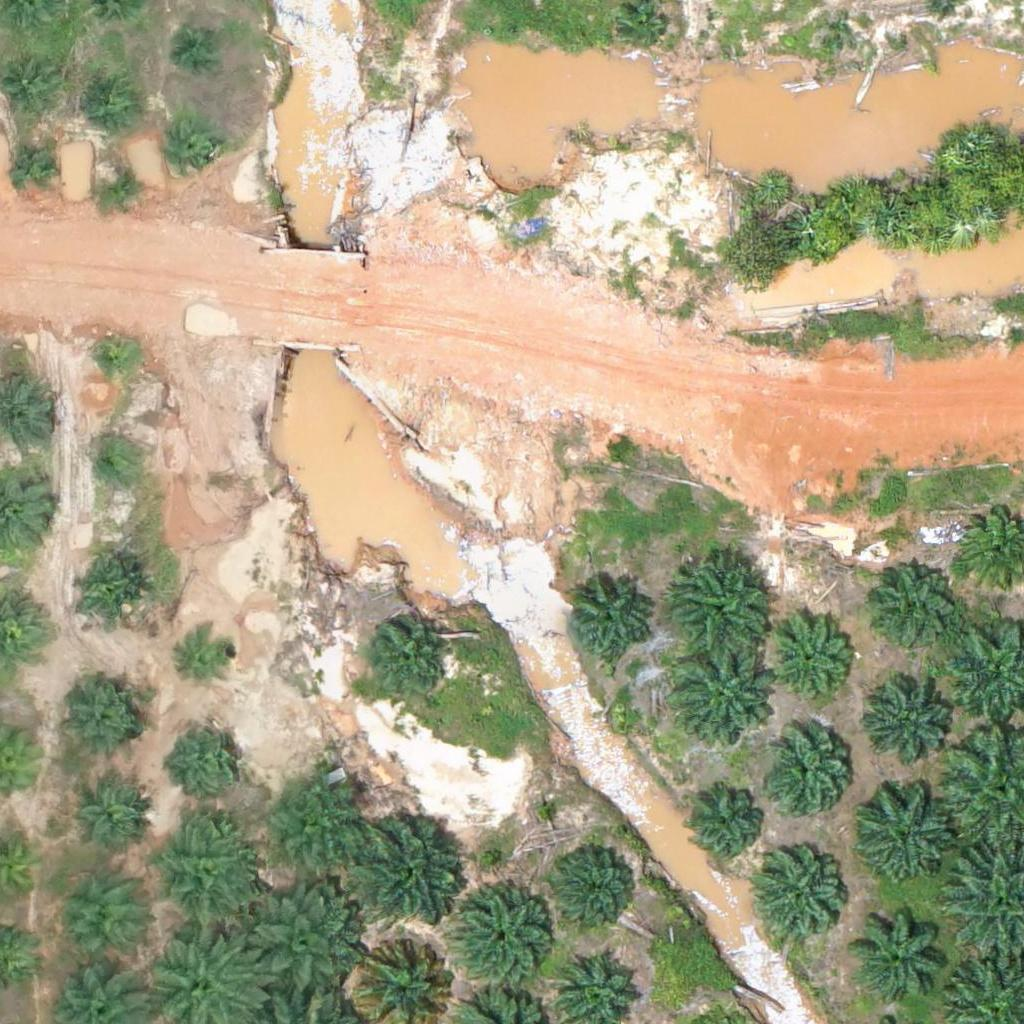Kelapa_Sawit: (345, 804, 470, 930), (234, 884, 359, 1009), (259, 767, 371, 881), (448, 883, 560, 997), (149, 819, 261, 932), (847, 903, 947, 1004), (674, 646, 774, 747), (670, 553, 770, 654), (48, 875, 148, 975), (852, 784, 952, 884), (62, 680, 150, 768), (873, 563, 961, 651), (766, 618, 854, 706), (763, 731, 851, 819), (755, 854, 843, 942), (565, 578, 653, 666), (66, 777, 153, 865), (364, 619, 451, 707), (683, 778, 770, 866), (867, 682, 954, 770), (552, 843, 639, 931), (70, 555, 145, 631), (172, 718, 247, 794), (83, 70, 146, 133), (177, 627, 239, 690), (10, 140, 60, 191), (96, 161, 146, 212), (167, 127, 217, 177), (177, 22, 227, 72), (89, 335, 139, 385), (85, 442, 135, 492), (619, 5, 669, 55), (836, 20, 861, 45)
